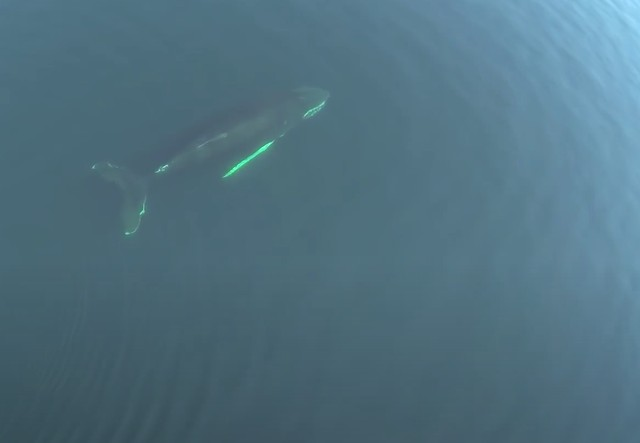whale: (77, 75, 337, 238)
